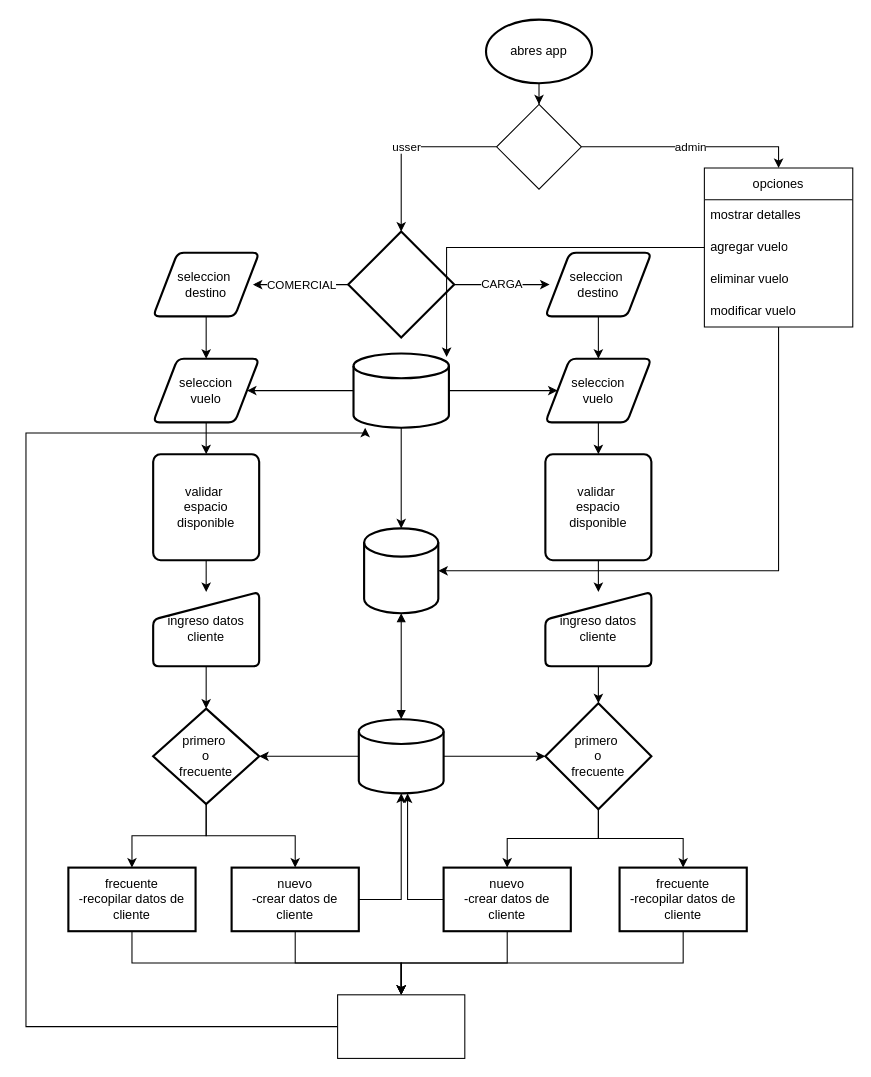
Image size: 871x1077. Some labels were removed from this diagram. The shapes that lost their labels are listed below. From the top down, each one's box as (x1, y1, x2, y2) in pixels, then its label:
(496, 103, 581, 189): usser o admin
(347, 230, 455, 338): comercial o carga
(352, 352, 449, 428): vuelos programados
(363, 527, 439, 614): vuelos realizados
(357, 718, 444, 794): Clientes
(337, 994, 465, 1058): generar reservacion en vuelo
